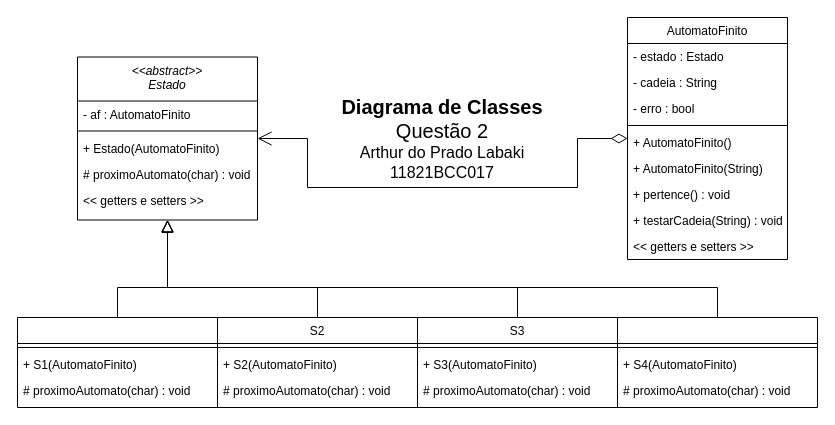
Image size: 835x425. Some labels were removed from this diagram. Here are the shapes that lost their labels. From the top down, the box of each, then its label:
(16, 316, 218, 408): S1
(616, 316, 818, 408): S4
